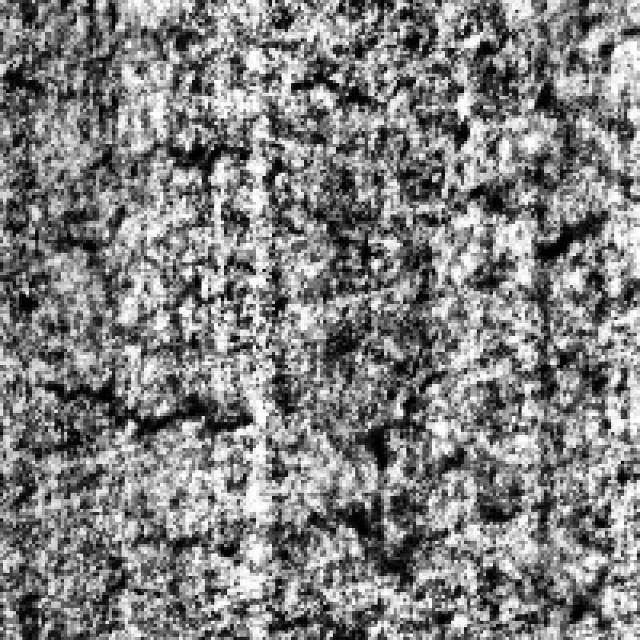Pitted_Surface: (10, 128, 256, 448)
